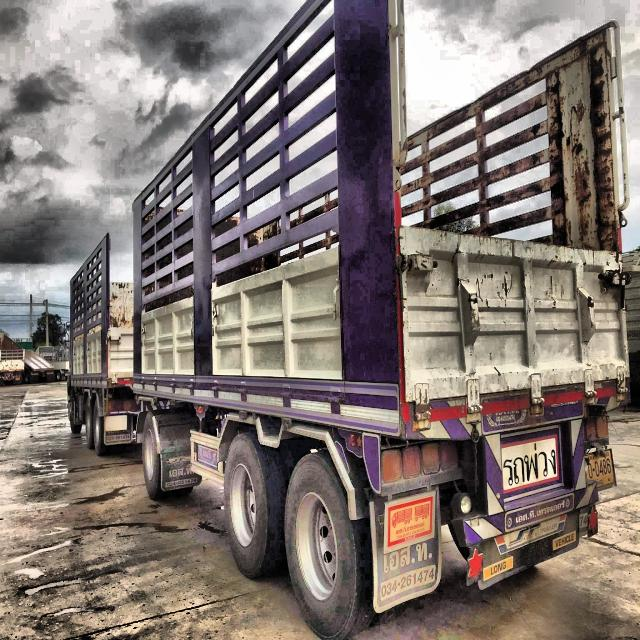trailer: (63, 0, 632, 640)
